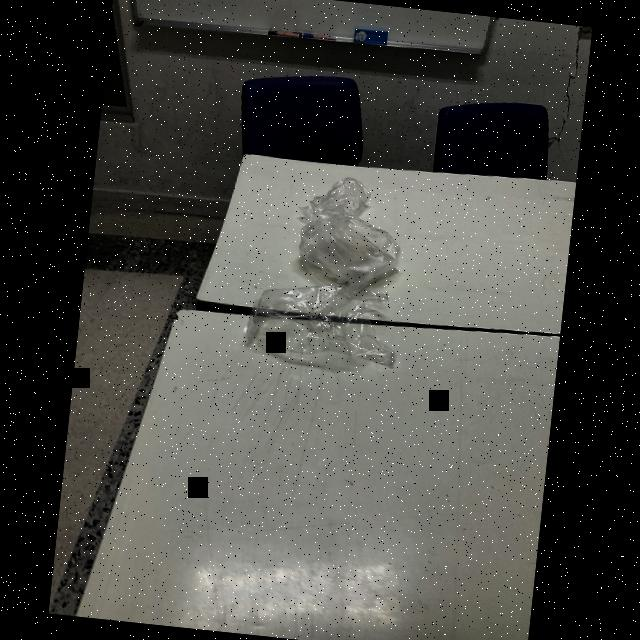plastic_bag: (234, 279, 403, 376), (280, 208, 402, 298), (300, 165, 382, 226)
